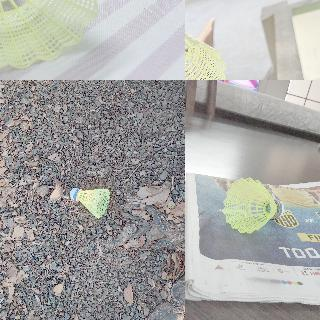shuttlecock: (0, 0, 106, 70), (223, 177, 283, 233), (185, 3, 226, 79), (68, 185, 110, 219)
